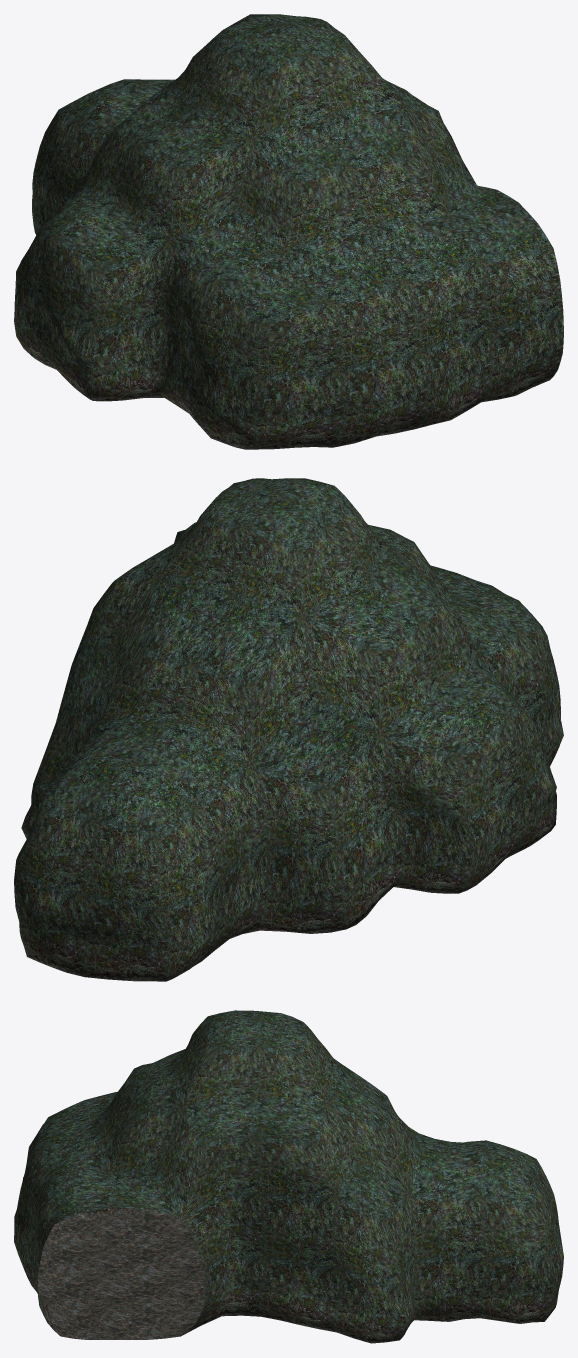
The model's file is thm_all_cave_s03_damprock_mirror_r27_r27.fbx.
The picture shows the model from 3 angles, top to bottom: view 1: azimuth 30°, elevation 25°; view 2: azimuth 150°, elevation 25°; view 3: azimuth 270°, elevation 25°; orthographic projection. The views are drawn at different scales.
Visible parts, largest first — view 1: mesh_node; view 2: mesh_node; view 3: mesh_node.
Boxes of the visible parts, x1,y1,x2,y2 form: mesh_node: (14,14,563,449); mesh_node: (14,478,563,981); mesh_node: (14,1010,563,1343).
Bounding box in the file's own units: 40.47 × 33.41 × 59.
